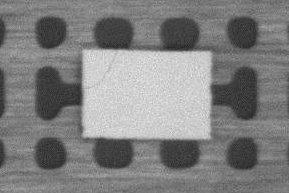DIE_CRACK: (82, 50, 119, 91)
